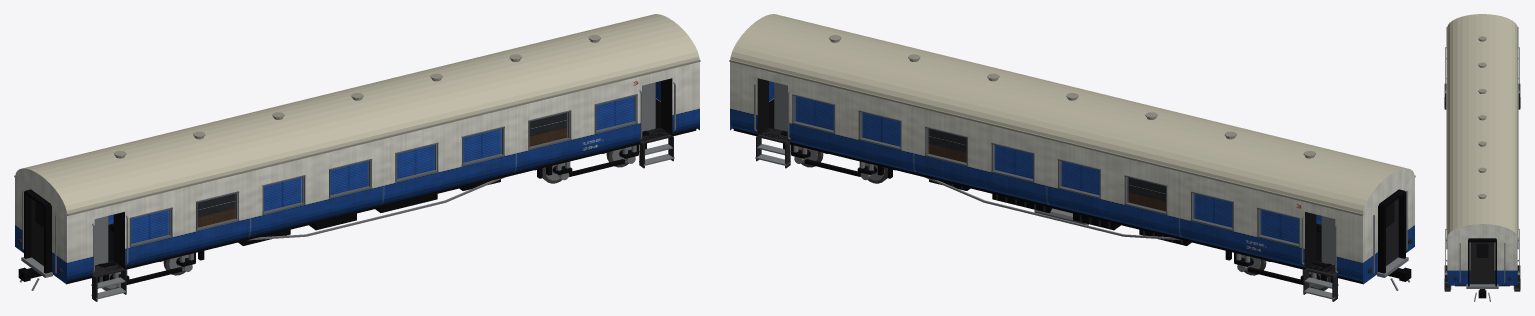
The model's file is btc.glb.
The picture shows the model from 3 angles, left to right: view 1: azimuth 30°, elevation 25°; view 2: azimuth 150°, elevation 25°; view 3: azimuth 270°, elevation 25°; orthographic projection. The views are drawn at different scales.
Visible parts, largest first — view 1: BTC; view 2: BTC; view 3: BTC.
Boxes of the visible parts, x1,y1,x2,y2 form: BTC: [14, 14, 700, 301]; BTC: [729, 14, 1415, 301]; BTC: [1444, 14, 1520, 301].
Size of the model in its own units: 21.24 by 3.82 by 3.08.
9 materials, 1 textured.
